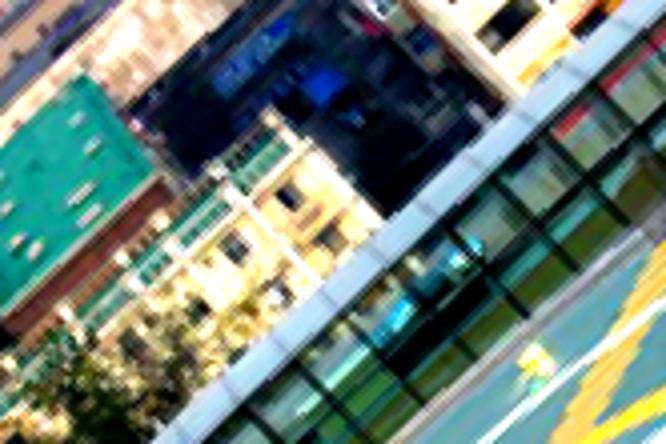Apron: (564, 365, 666, 444)
